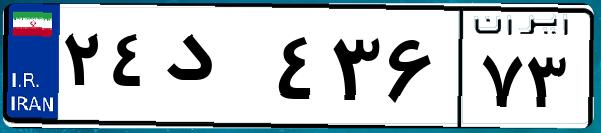2: (57, 26, 110, 100)
3: (330, 28, 385, 110), (525, 38, 570, 115)
4: (270, 28, 330, 110), (110, 28, 158, 98)
6: (385, 28, 445, 110)
7: (475, 38, 525, 113)
د: (158, 20, 270, 120)
